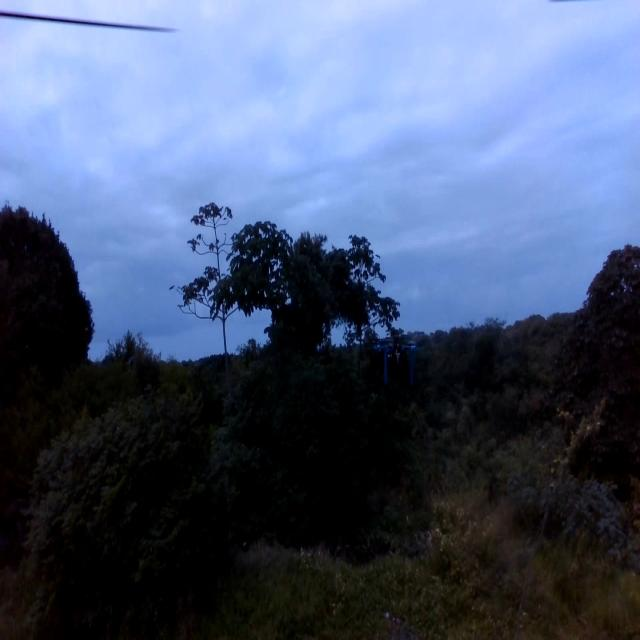-uav-: (369, 322, 428, 390)
